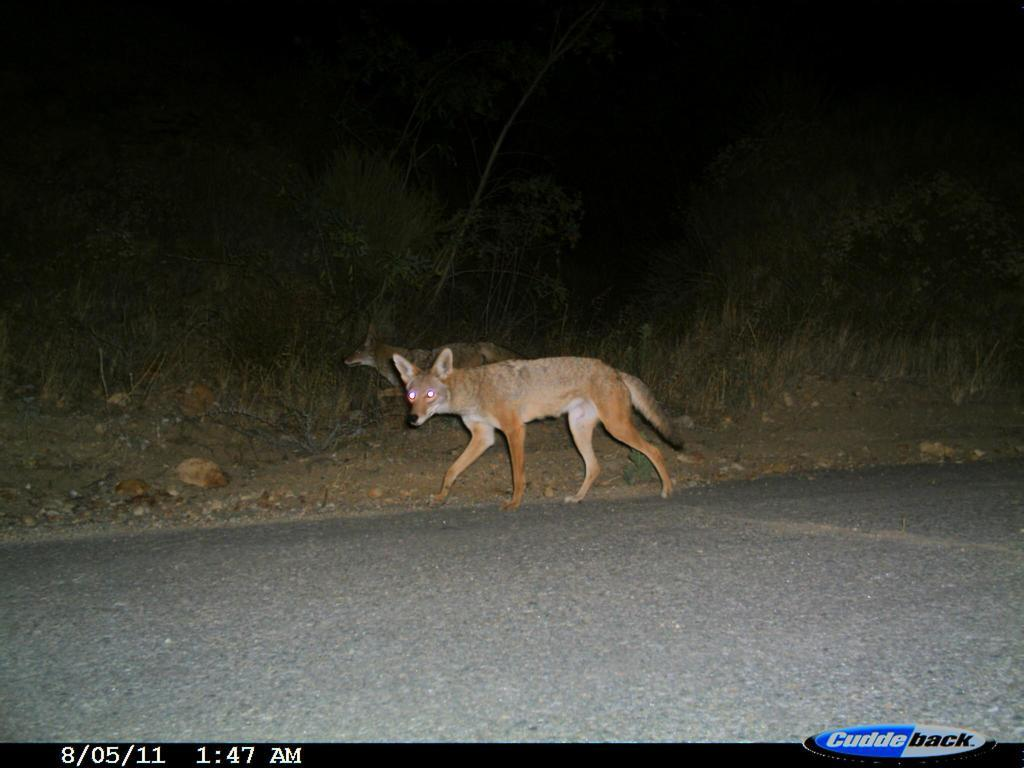coyote: (382, 345, 692, 515)
